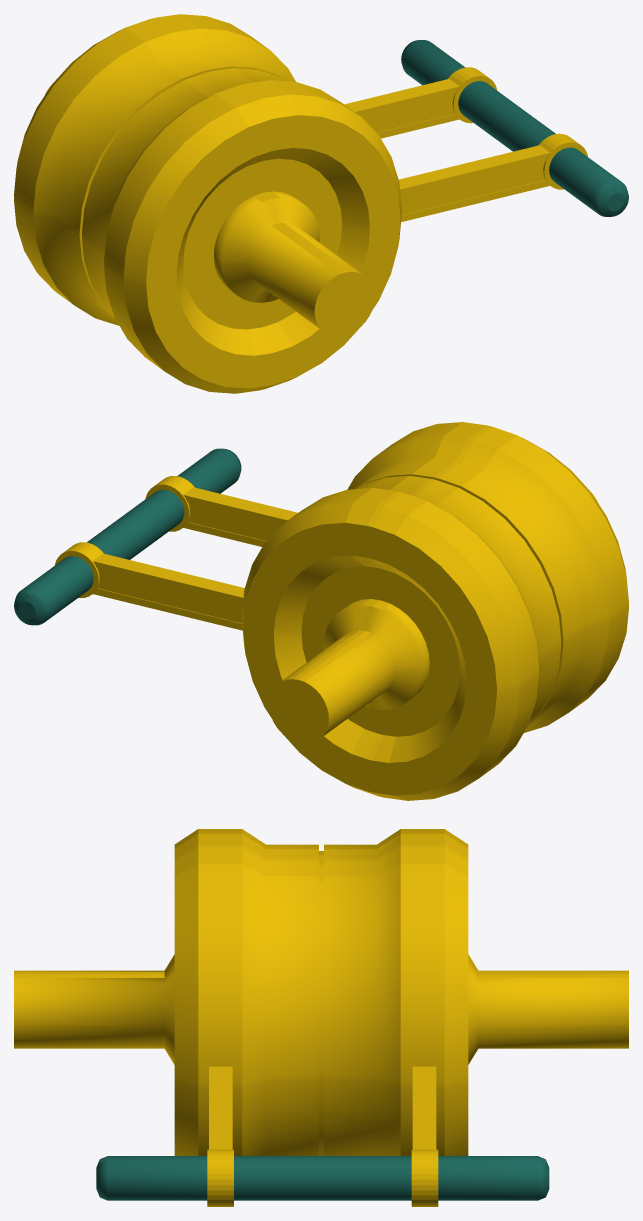
The model's file is Hebel_01_mesh.fbx.
3 renders of one model, top to bottom at view 1: azimuth 30°, elevation 25°; view 2: azimuth 150°, elevation 25°; view 3: azimuth 270°, elevation 25°, orthographic. The views are drawn at different scales.
Visible parts, largest first — view 1: Cube.008; view 2: Cube.008; view 3: Cube.008.
Part boxes in pixels (x1,y1,x2,y2): Cube.008: [14, 14, 628, 393]; Cube.008: [14, 422, 628, 800]; Cube.008: [14, 829, 628, 1206].
Bounding box in the file's own units: 6.01 × 3.57 × 6.08.
